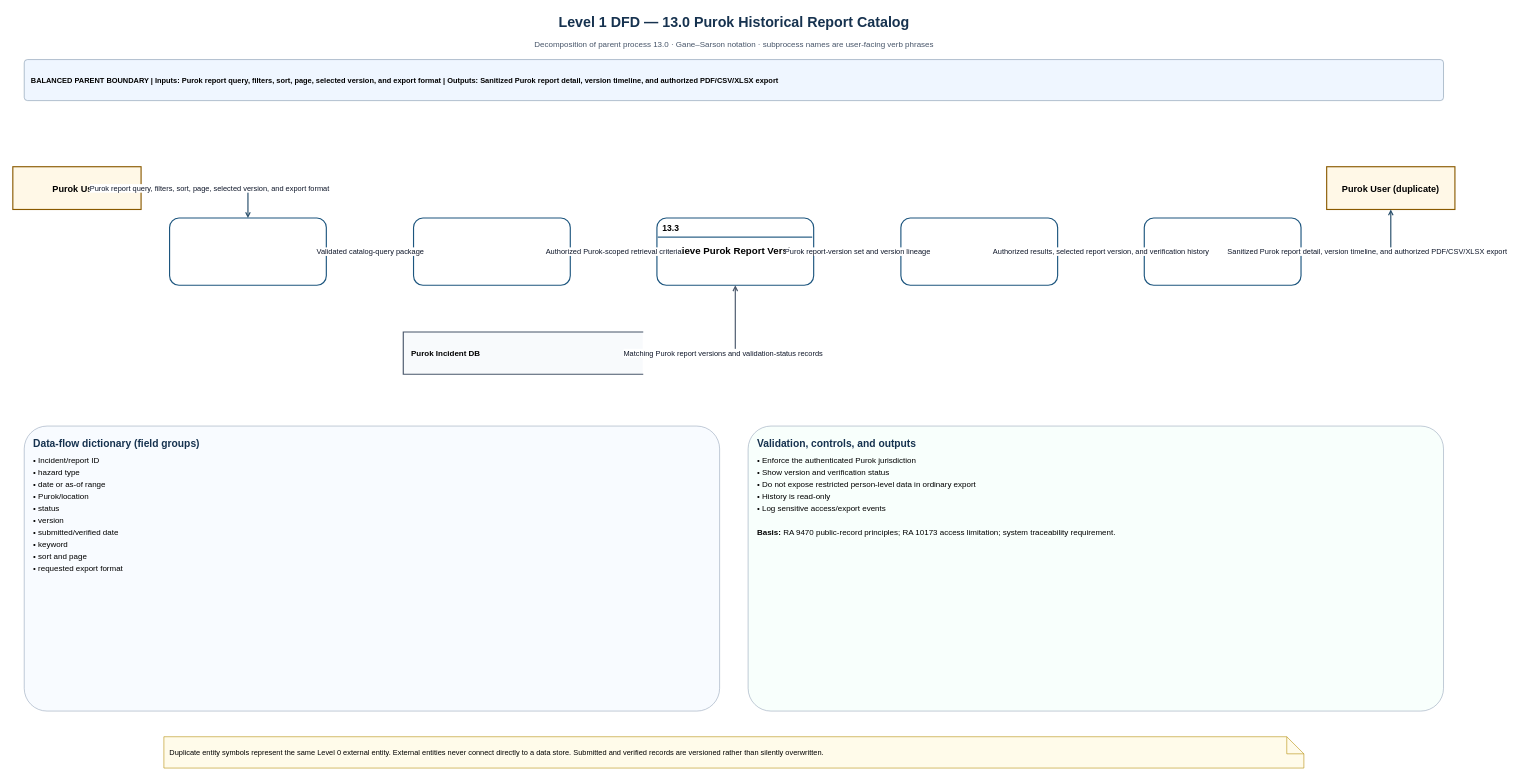
Image size: 1517x778. Some labels were removed from this diagram. The box of each missing label's shape, as (x1, y1, x2, y2) in pixels:
13.1 Receive Catalog Query: (169, 217, 327, 286)
13.2 Apply Purok Access Filter: (413, 217, 571, 286)
13.4 Display History and Validation Status: (900, 217, 1058, 286)
13.5 Open Detail or Export Authorized Record: (1143, 217, 1301, 286)
